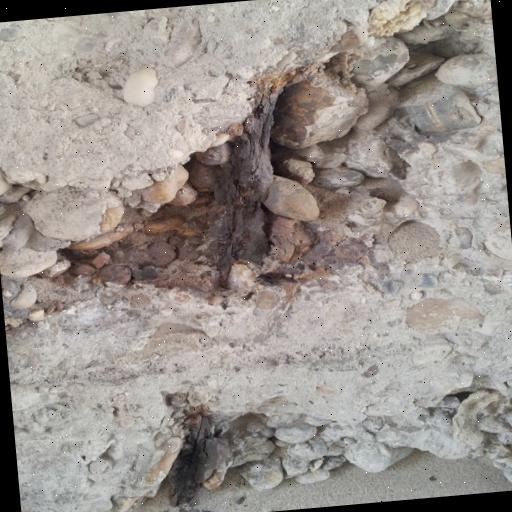spalling: (32, 28, 391, 319)
